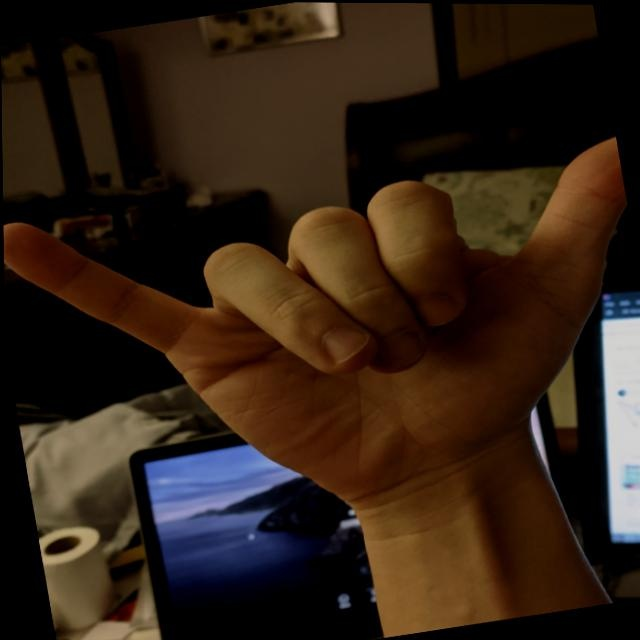Y: (1, 121, 639, 560)
